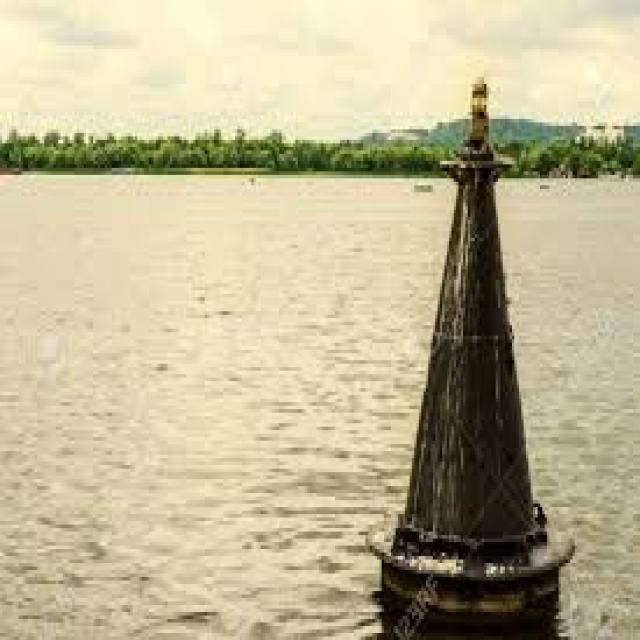Buoy: (358, 29, 575, 627)
